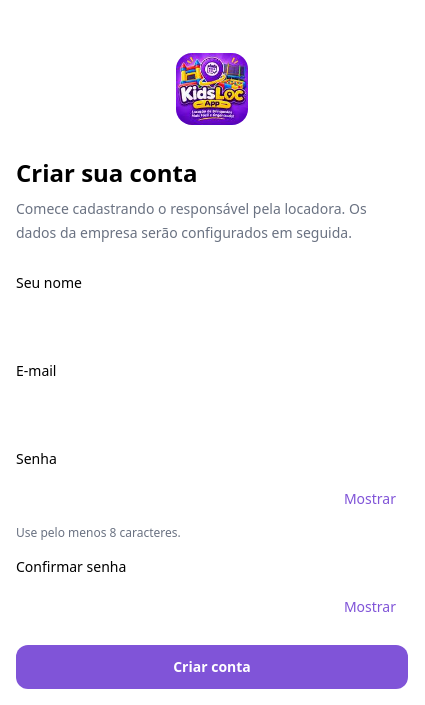
it: web authentication forms › validates signup fields before requesting account creation
Type "senha-diferente" into the password field labelled "Confirmar senha" at (212, 607), box [16,585,408,629]
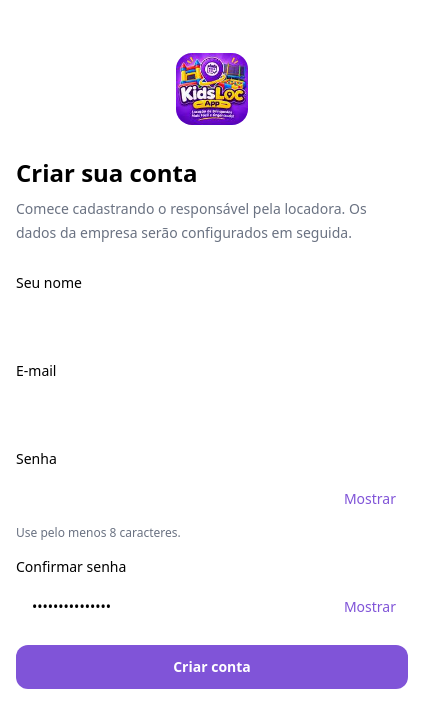
Click the button "Criar conta" at (212, 667), box [16,645,408,689]
(page scrolled)
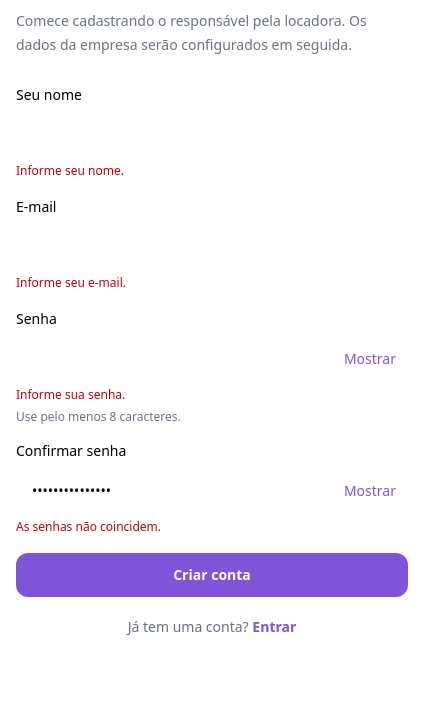
Expected: the text "Informe seu nome." is shown, [16,162,124,179]
Expected: the text "Informe seu e-mail." is shown, [16,274,126,291]
Expected: the text "Informe sua senha." is shown, [16,386,125,403]
